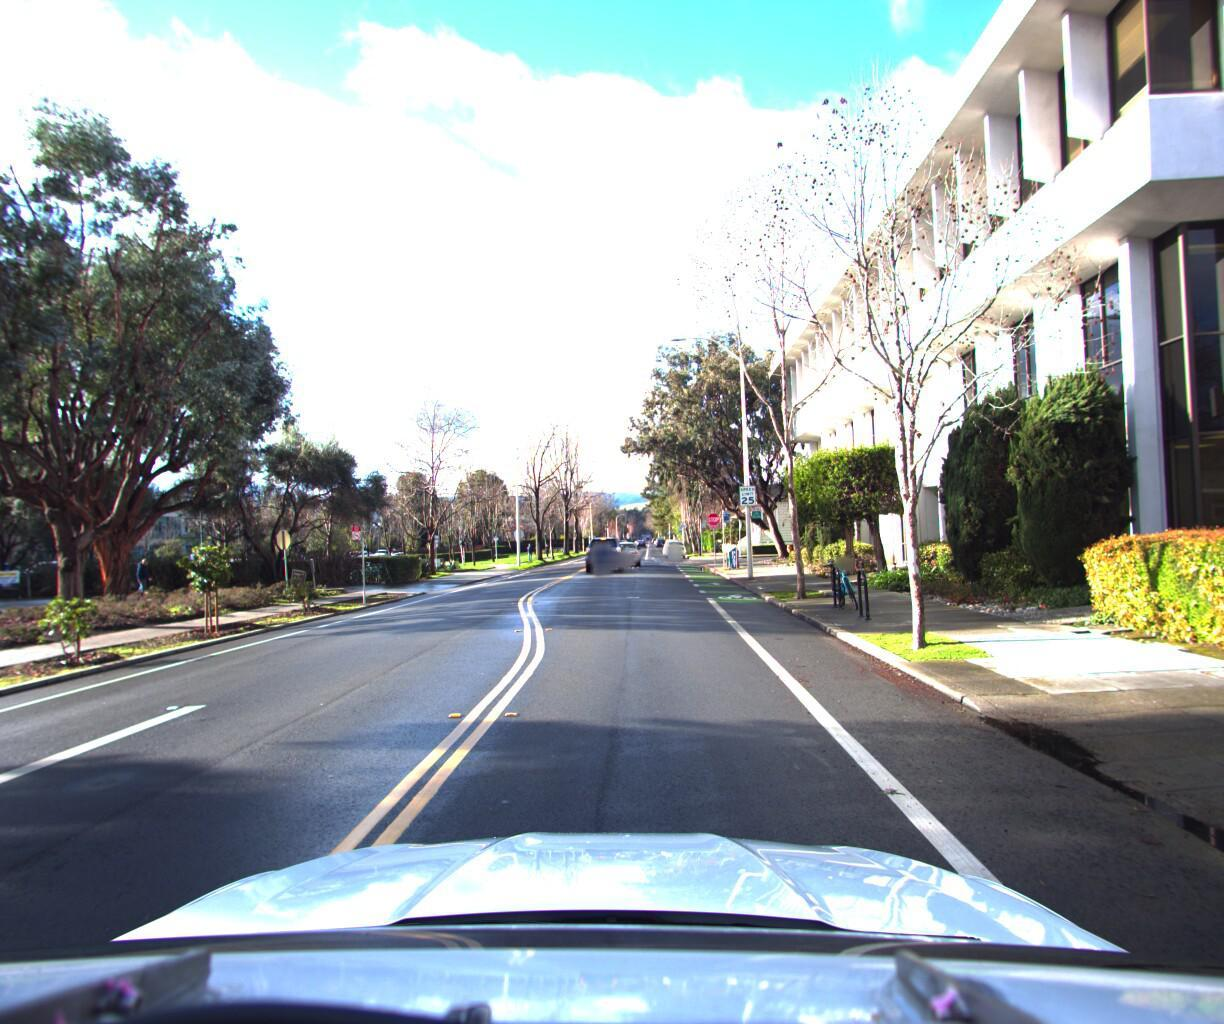bicycle: (804, 546, 864, 607)
car: (582, 531, 624, 569), (605, 530, 638, 562), (660, 537, 684, 557)
